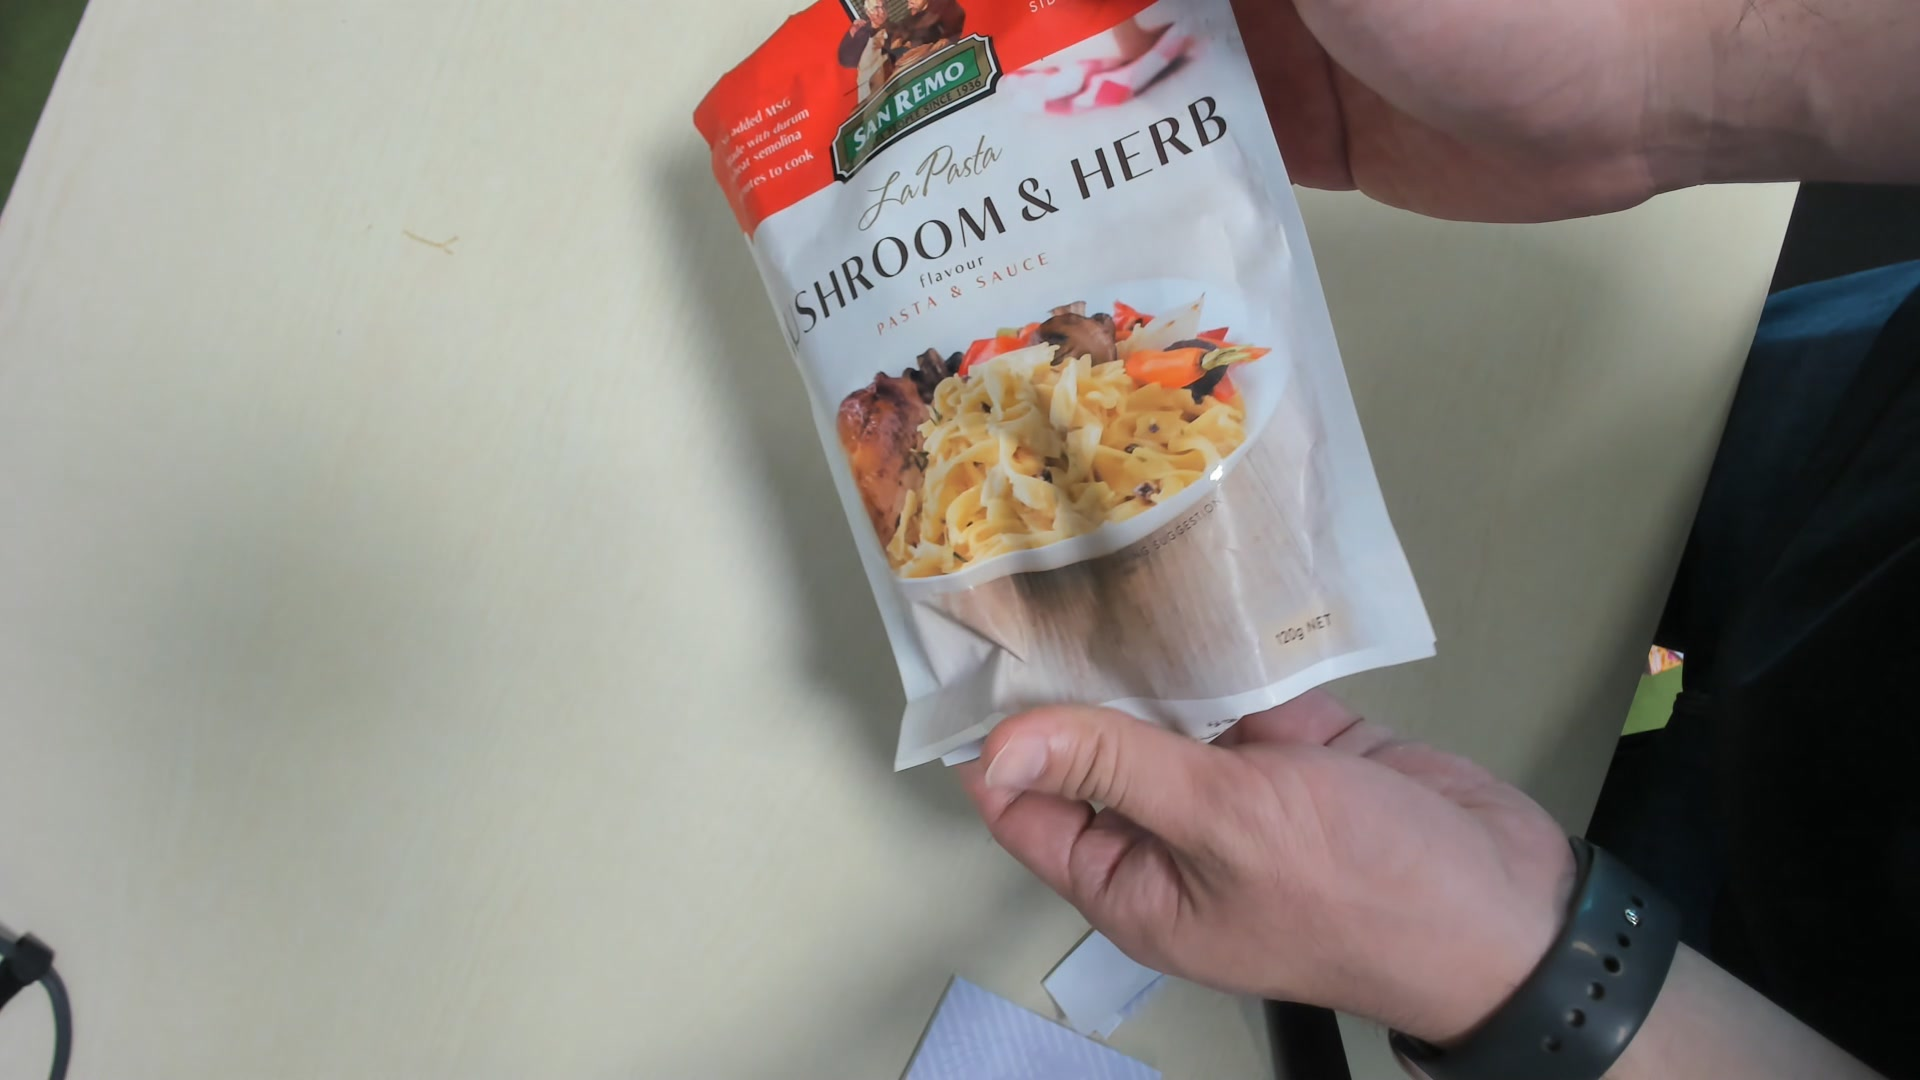InstantMeals_100-199g_NonHalal_Healthy: (695, 1, 1433, 762)
